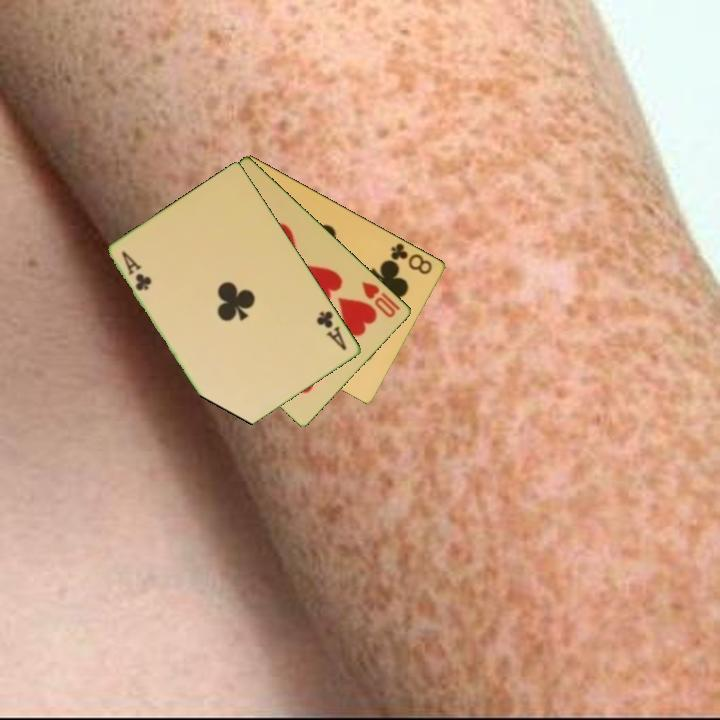10h: (358, 278, 399, 321)
8c: (387, 239, 436, 277)
Ac: (118, 247, 155, 294), (313, 307, 350, 353)
